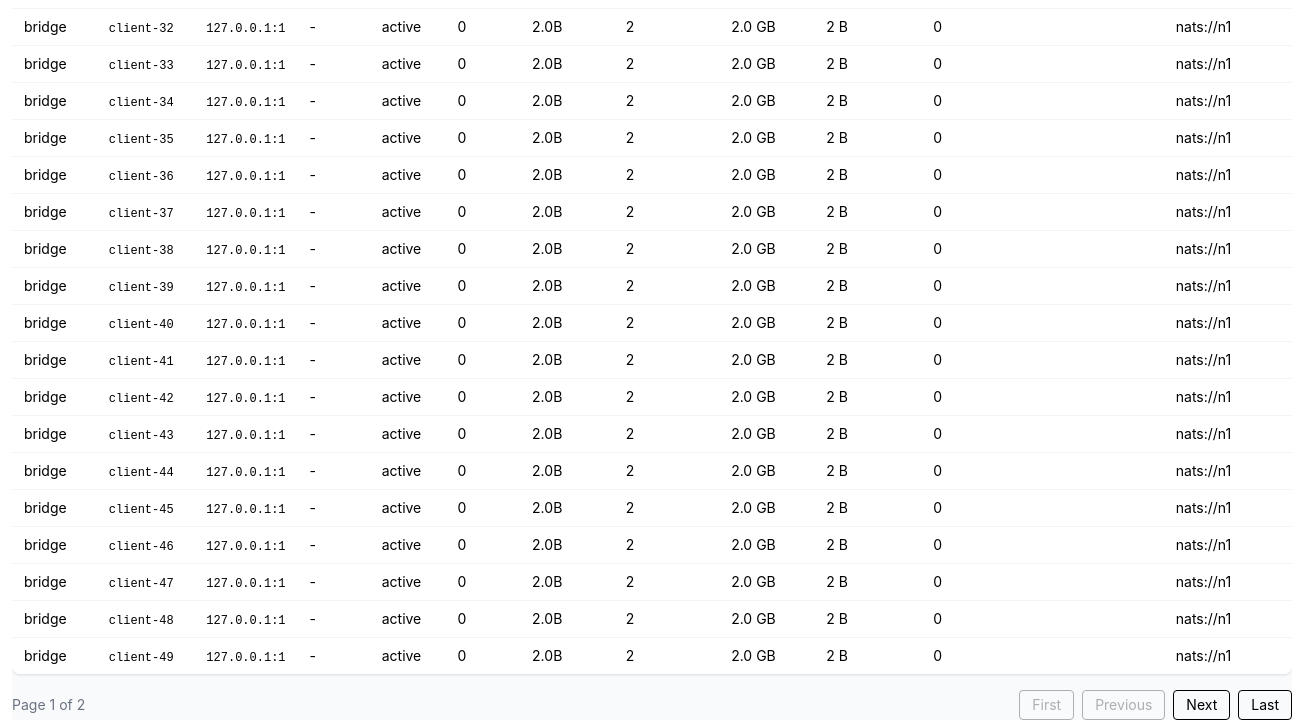
Test case: pagination, modal, and administration interactions › aggregates enough MQTT clients to exercise local table pagination and filtering
(page scrolled)
expect the text "Page 1 of 2" is shown: met, box [12,695,85,715]
Click the button "Next" at (1202, 705), box [1173,690,1230,719]
(page scrolled)
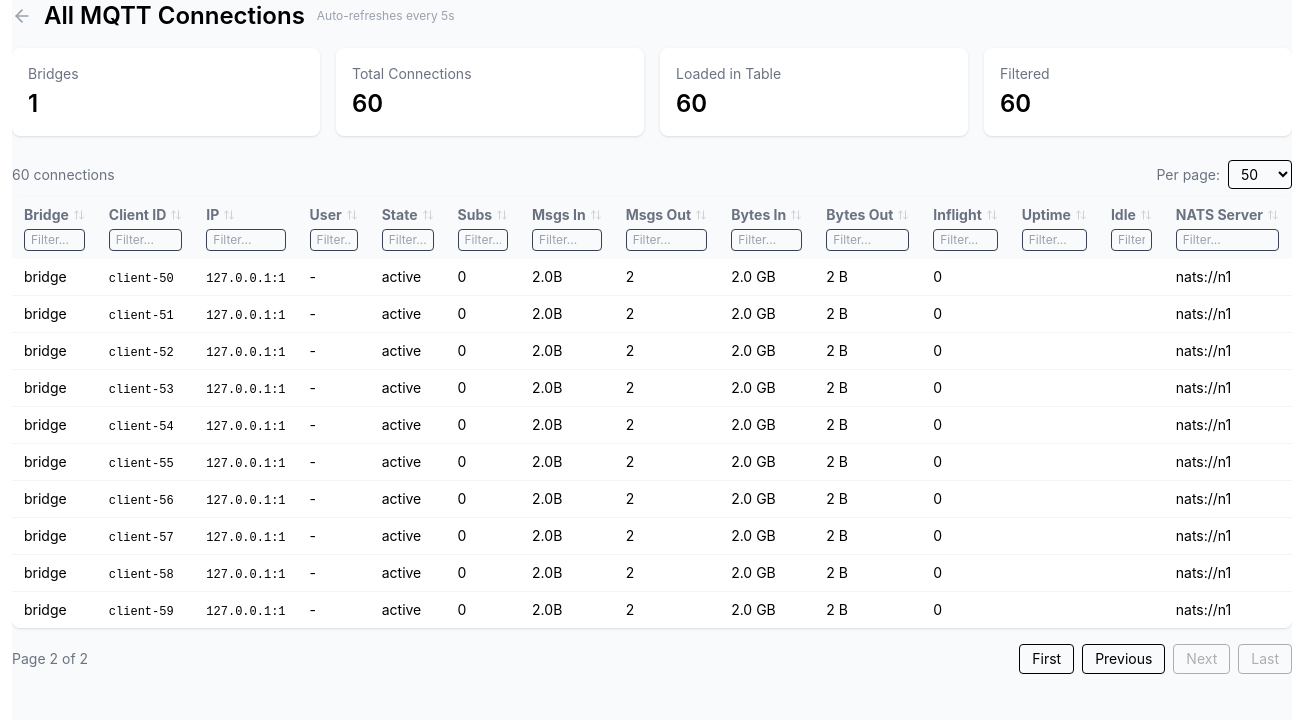
expect the text "Page 2 of 2" is shown: met, box [12,649,88,669]
Click the button "Previous" at (1124, 659), box [1082,644,1165,674]
(page scrolled)
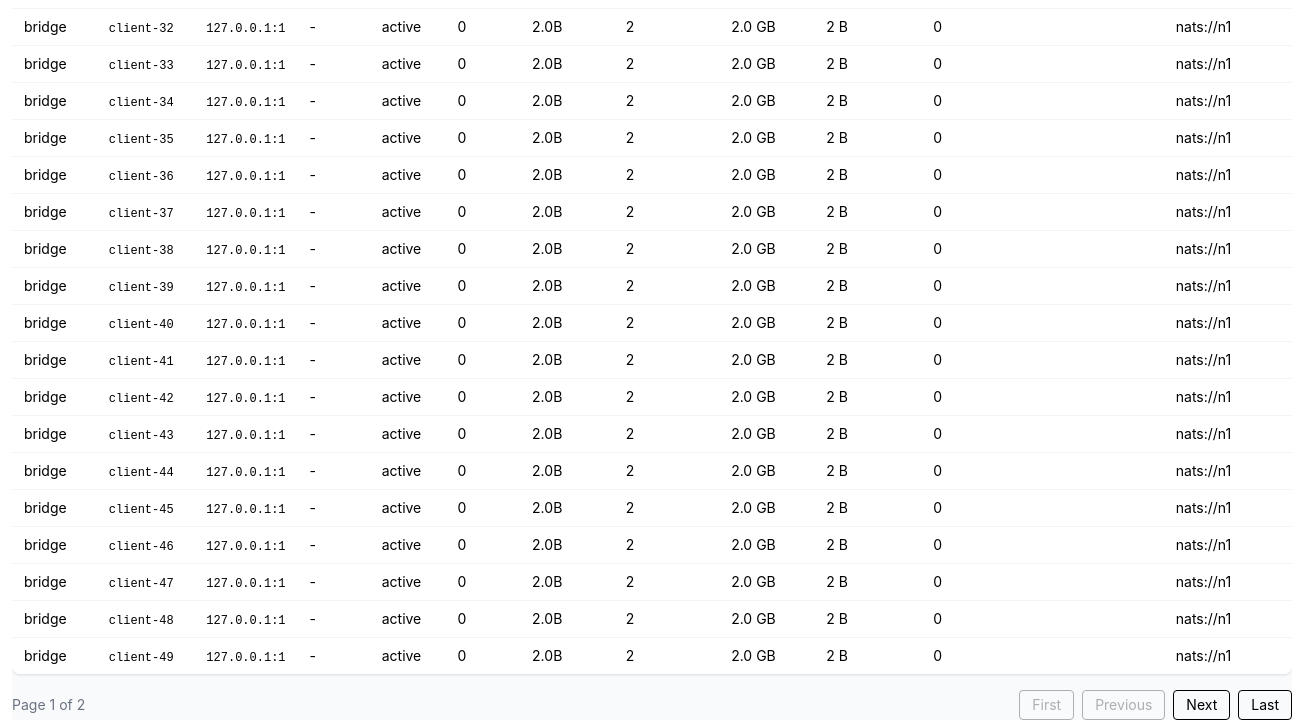
Click the button "Last" at (1265, 705), box [1238,690,1292,719]
(page scrolled)
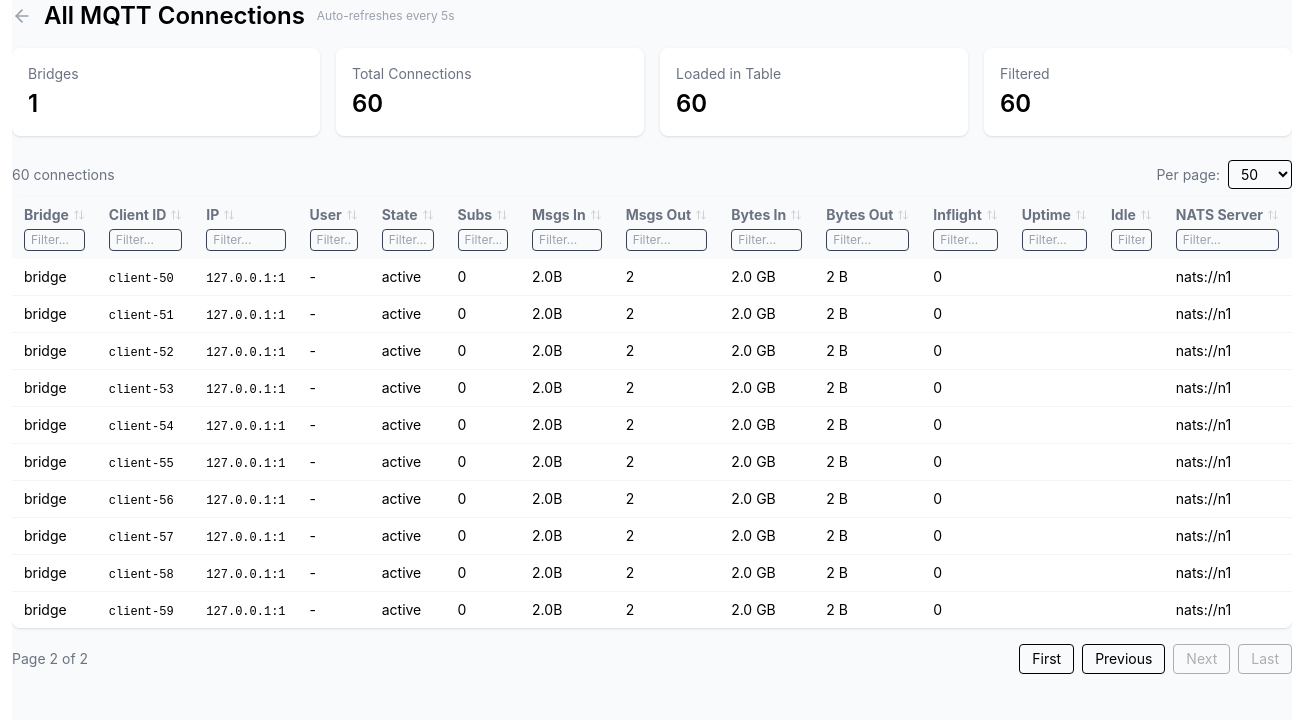
expect the text "Page 2 of 2" is shown: met, box [12,649,88,669]
Click the button "First" at (1047, 659), box [1019,644,1074,674]
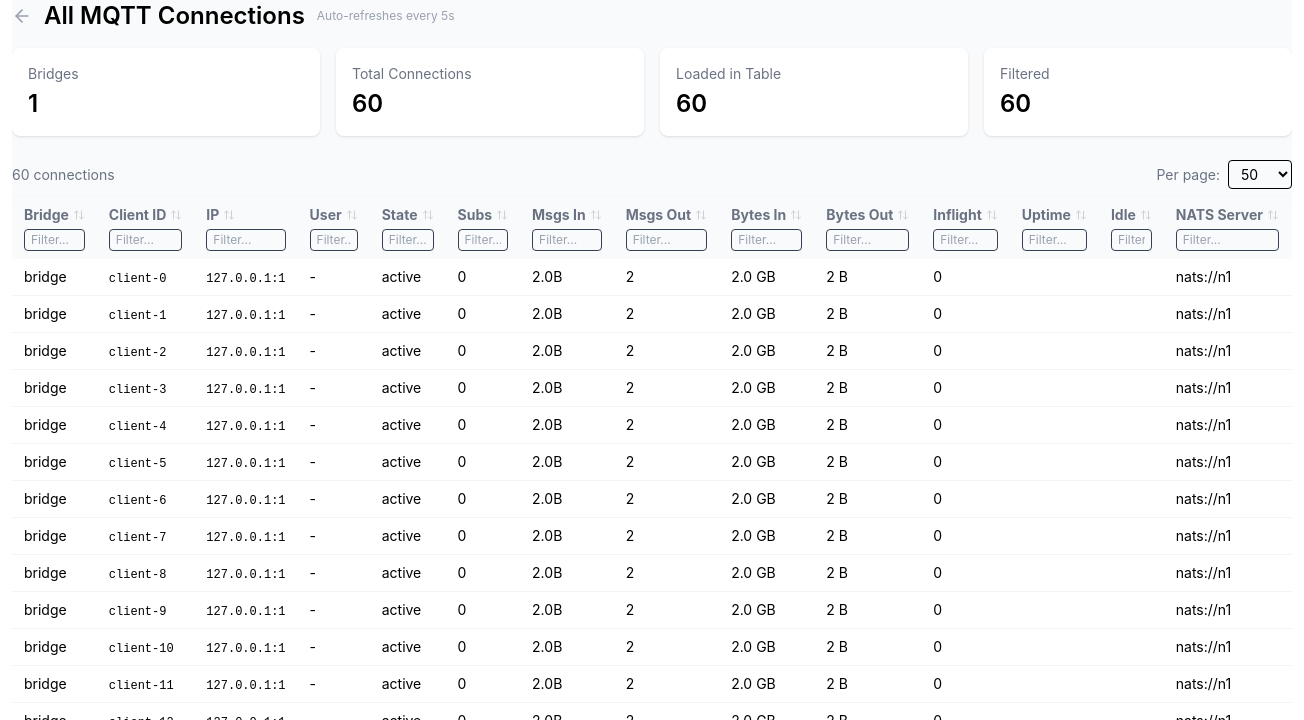
Select "50" in the dropdown at (1260, 174), box [1228,160,1292,189]
Type "bridge" into the 1st field with placeholder "Filter..." at (54, 240), box [24,229,85,251]
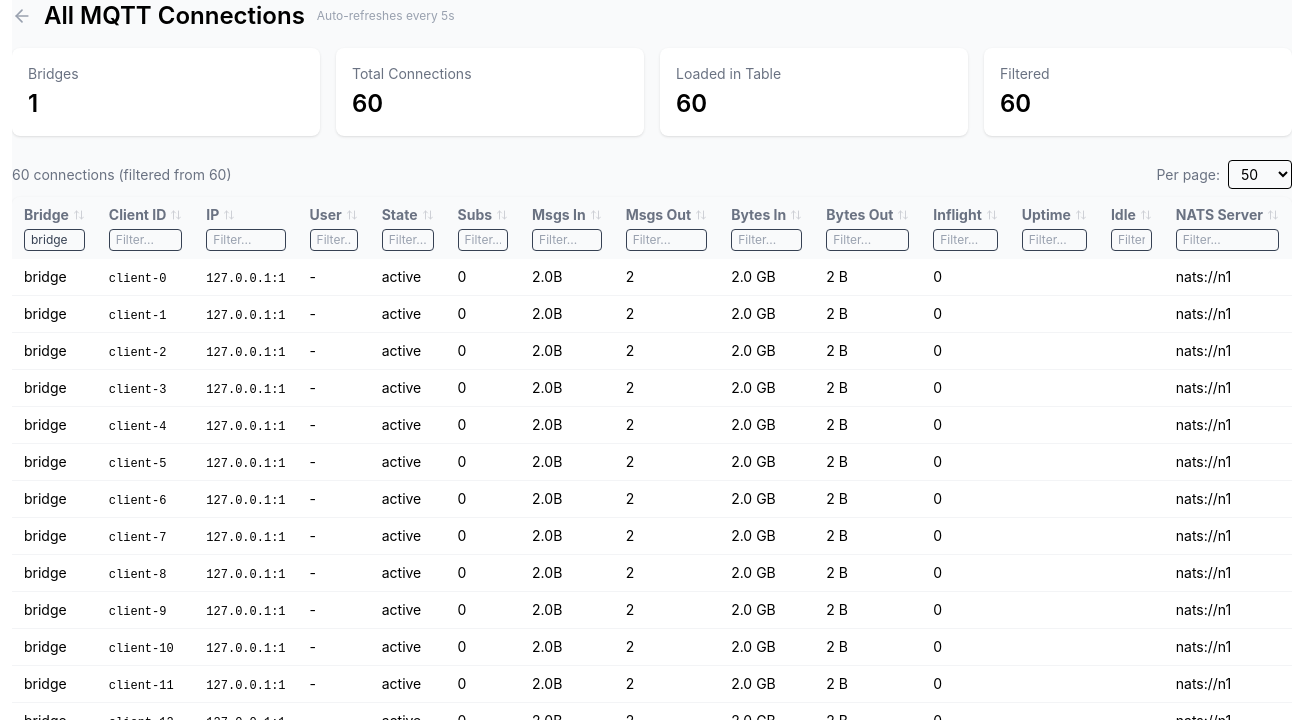
expect the text "60 connections (filtered from 60)" is shown: met, box [12,164,232,184]
